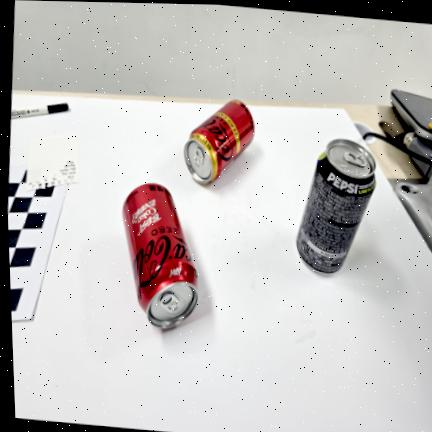can_coke_decaf: (180, 95, 255, 190)
can_coke_zero: (122, 179, 200, 330)
can_pepsi_zero: (293, 141, 377, 280)
